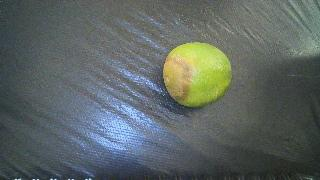DESECHO: (163, 42, 231, 107)
